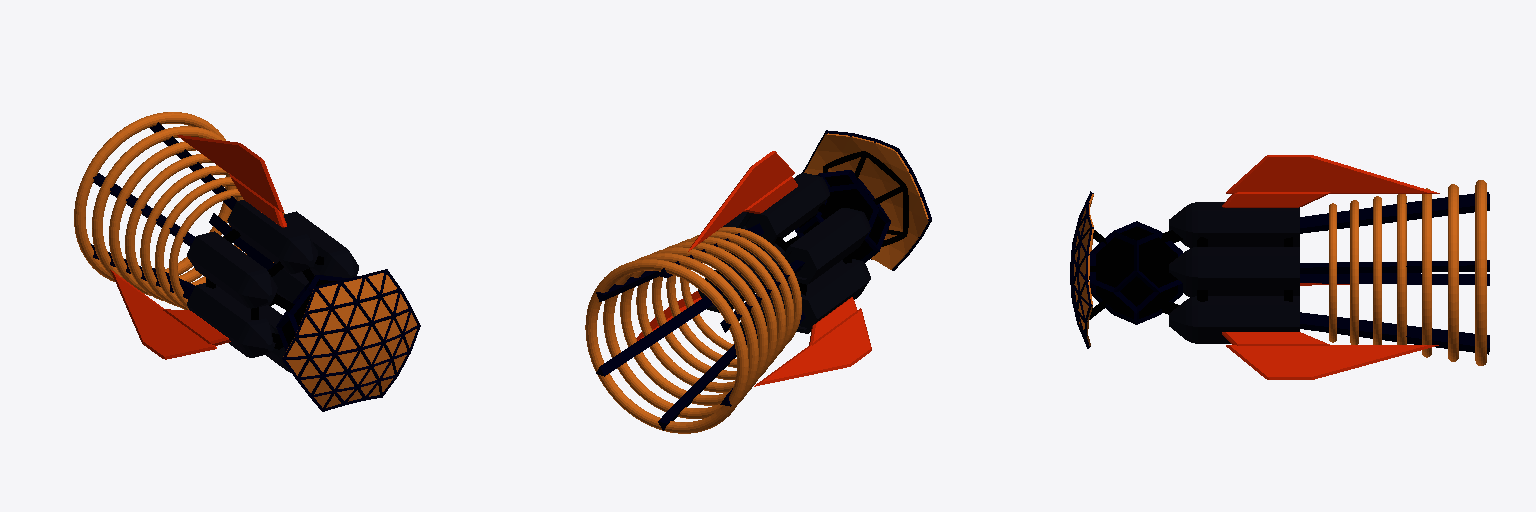
The model's file is ship.obj.
3 renders of one model, left to right at view 1: azimuth 30°, elevation 25°; view 2: azimuth 150°, elevation 25°; view 3: azimuth 270°, elevation 25°, orthographic.
Parts seen in each view (by area): view 1: Torus, Cylinder, Icosphere, Plane_Plane.001, Cylinder.002_Cylinder.003, Solid, Cylinder.003_Cylinder.004; view 2: Torus, Cylinder, Plane_Plane.001, Icosphere, Cylinder.002_Cylinder.003, Solid, Cylinder.004_Cylinder.005, Cylinder.003_Cylinder.004; view 3: Cylinder, Plane_Plane.001, Torus, Cylinder.002_Cylinder.003, Solid, Icosphere, Cylinder.003_Cylinder.004.
Boxes of the visible parts, x1=… form: Torus: x1=74, y1=112, x2=284, y2=309; Cylinder: x1=187, y1=200, x2=358, y2=372; Icosphere: x1=282, y1=269, x2=420, y2=411; Plane_Plane.001: x1=110, y1=135, x2=286, y2=359; Cylinder.002_Cylinder.003: x1=91, y1=122, x2=274, y2=299; Solid: x1=276, y1=275, x2=348, y2=350; Cylinder.003_Cylinder.004: x1=206, y1=229, x2=323, y2=349; Torus: x1=585, y1=227, x2=801, y2=433; Cylinder: x1=698, y1=173, x2=870, y2=338; Plane_Plane.001: x1=636, y1=151, x2=871, y2=386; Icosphere: x1=802, y1=130, x2=931, y2=270; Cylinder.002_Cylinder.003: x1=596, y1=223, x2=805, y2=430; Solid: x1=795, y1=170, x2=890, y2=262; Cylinder.004_Cylinder.005: x1=823, y1=151, x2=908, y2=246; Cylinder.003_Cylinder.004: x1=717, y1=196, x2=860, y2=315; Cylinder: x1=1169, y1=202, x2=1299, y2=343; Plane_Plane.001: x1=1222, y1=155, x2=1439, y2=379; Torus: x1=1329, y1=180, x2=1486, y2=365; Cylinder.002_Cylinder.003: x1=1300, y1=192, x2=1489, y2=354; Solid: x1=1090, y1=221, x2=1182, y2=324; Icosphere: x1=1070, y1=191, x2=1093, y2=348; Cylinder.003_Cylinder.004: x1=1150, y1=230, x2=1292, y2=314.
Bounding box in the file's own units: 10.4 × 10.29 × 19.3.